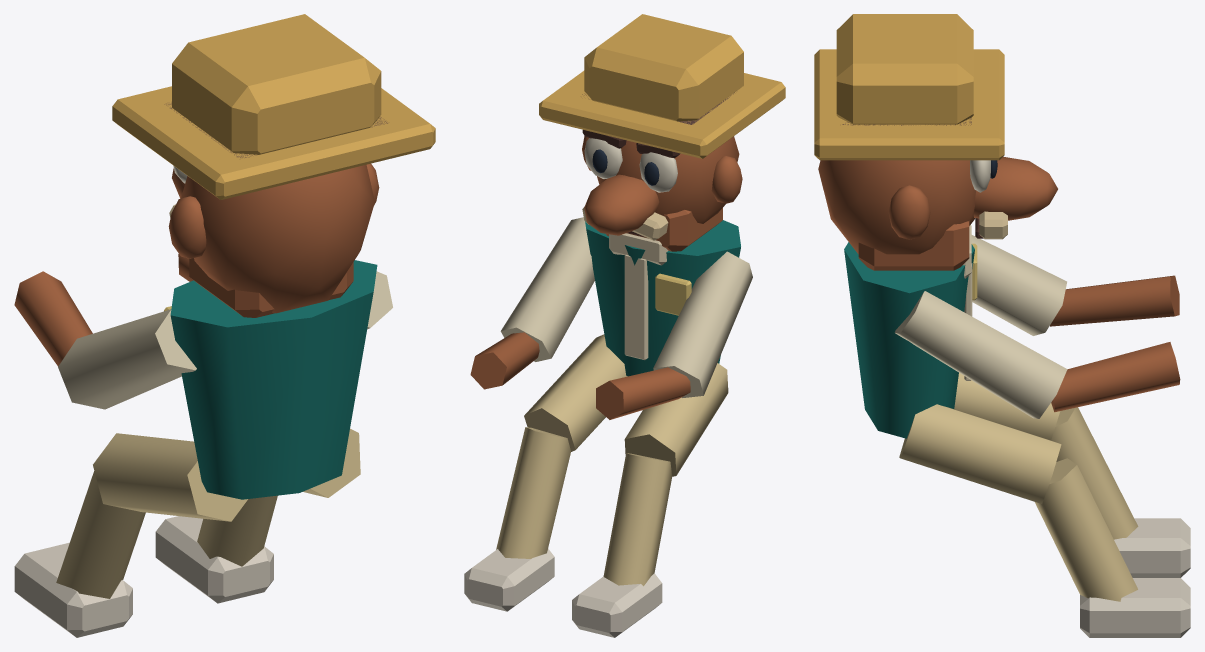
File: driver-groundskeeper.glb
The picture shows the model from 3 angles, left to right: view 1: azimuth 30°, elevation 25°; view 2: azimuth 150°, elevation 25°; view 3: azimuth 270°, elevation 25°; orthographic projection. The views are drawn at different scales.
Visible parts, largest first — view 1: HeadRebound, ElasticTorso, PlantedLegs, LeftUpperArm, LeftForearm, RightUpperArm; view 2: HeadRebound, PlantedLegs, ElasticTorso, LeftUpperArm, RightUpperArm, LeftForearm, RightForearm; view 3: HeadRebound, PlantedLegs, ElasticTorso, RightUpperArm, LeftUpperArm, RightForearm, LeftForearm.
Boxes of the visible parts, bbox=[...] form: HeadRebound: bbox=[112, 14, 435, 317]; ElasticTorso: bbox=[164, 260, 377, 499]; PlantedLegs: bbox=[14, 428, 360, 637]; LeftUpperArm: bbox=[58, 309, 196, 409]; LeftForearm: bbox=[14, 271, 92, 366]; RightUpperArm: bbox=[367, 271, 392, 329]; HeadRebound: bbox=[539, 14, 785, 251]; PlantedLegs: bbox=[464, 334, 728, 637]; ElasticTorso: bbox=[585, 220, 740, 376]; LeftUpperArm: bbox=[653, 251, 752, 397]; RightUpperArm: bbox=[500, 217, 594, 361]; LeftForearm: bbox=[596, 367, 690, 419]; RightForearm: bbox=[470, 332, 539, 389]; HeadRebound: bbox=[814, 14, 1057, 270]; PlantedLegs: bbox=[899, 373, 1190, 637]; ElasticTorso: bbox=[844, 225, 977, 438]; RightUpperArm: bbox=[894, 291, 1067, 418]; LeftUpperArm: bbox=[971, 235, 1066, 335]; RightForearm: bbox=[1051, 342, 1180, 412]; LeftForearm: bbox=[1050, 275, 1179, 326].
Bounding box in the file's own units: 0.5902 × 1.39 × 0.85.
